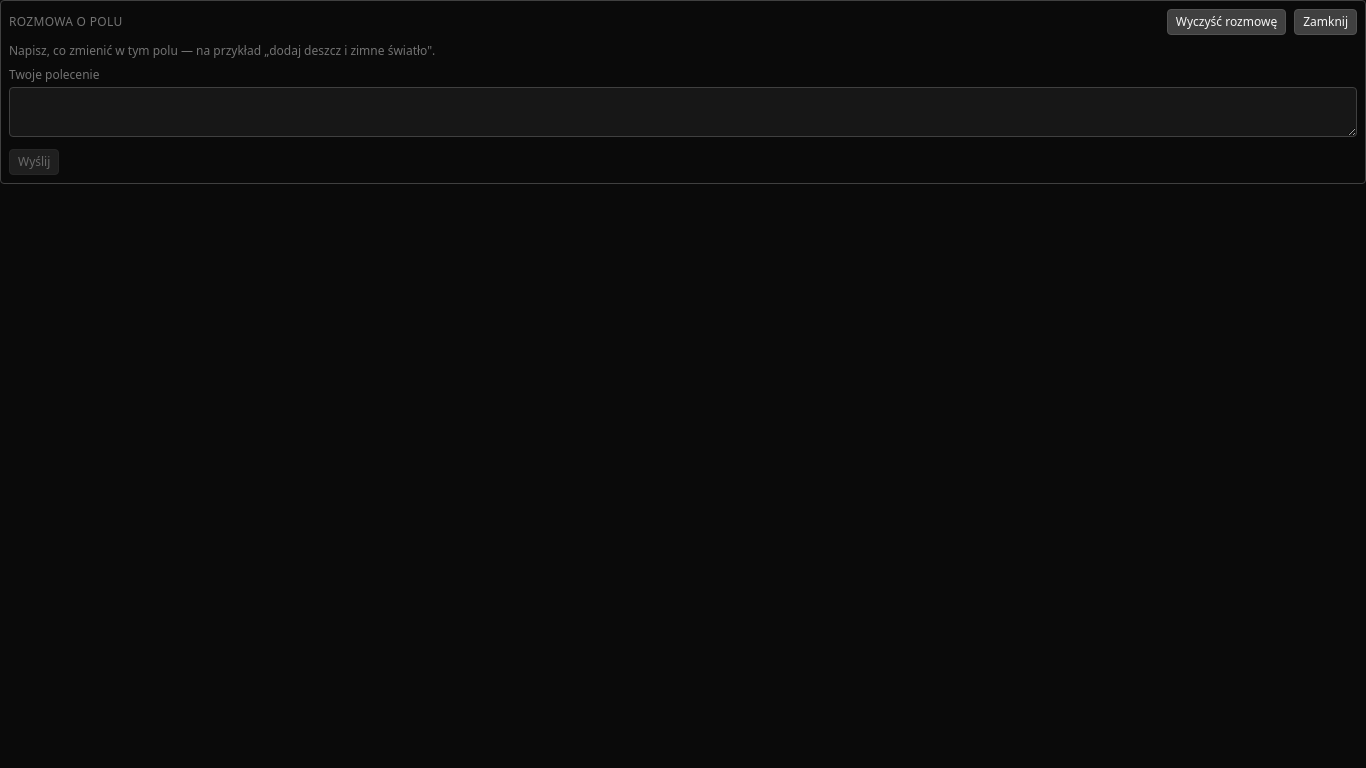
Test case: FieldChat › odpowiedź z propozycją pokazuje przegląd operacji
The width and height of the screenshot is (1366, 768).
Type "dodaj deszcz" into the text box labelled "Twoje polecenie" at point(683, 112), box [9,87,1357,137]
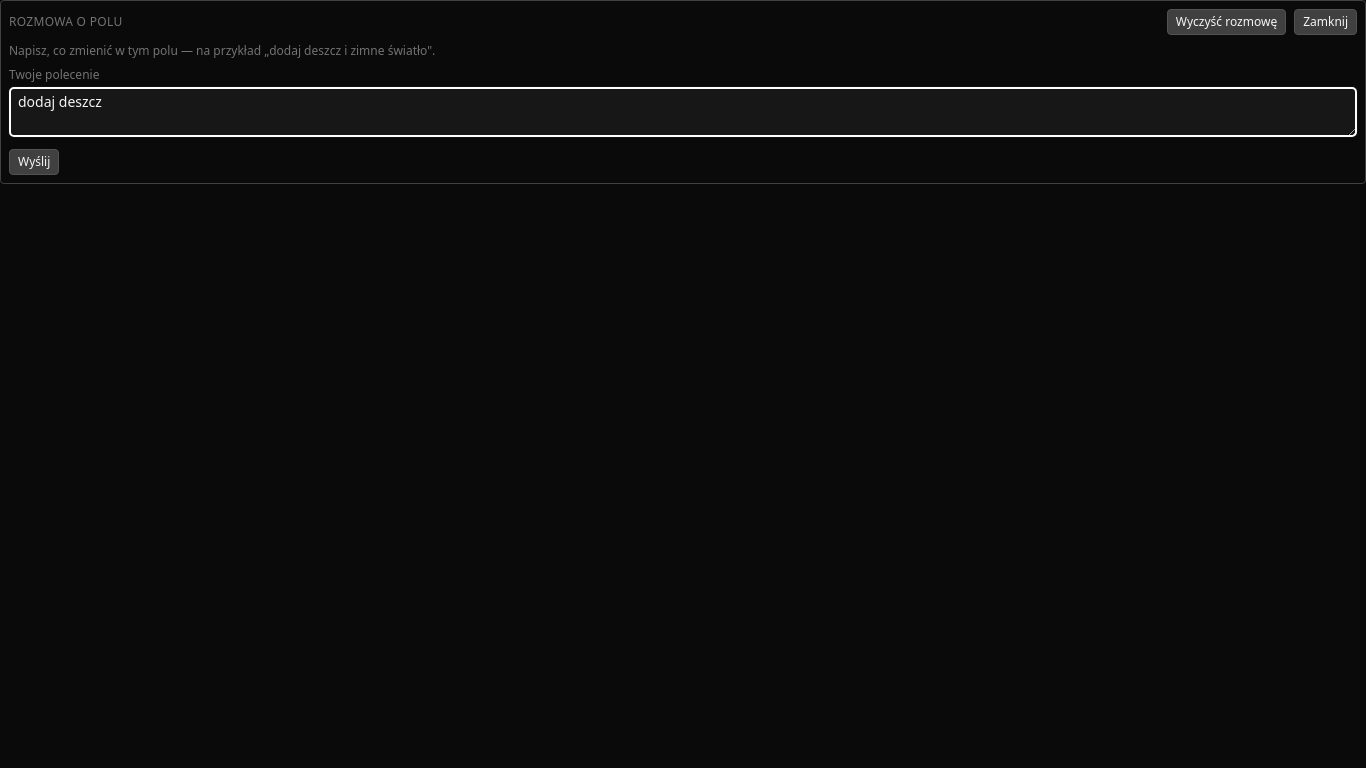
Click the button "Wyślij" at point(34, 162), box [9,149,59,175]
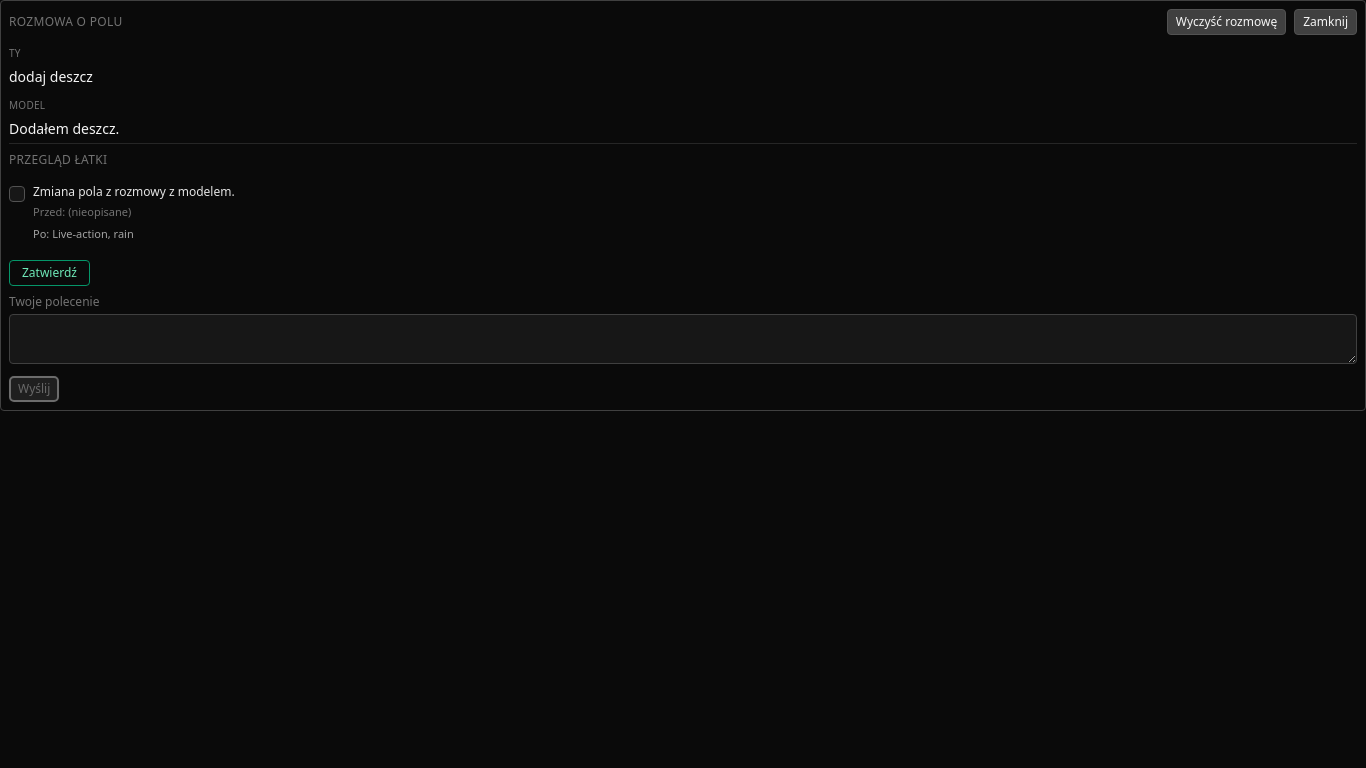
Now the text "Dodałem deszcz." is shown, box [9,119,119,138]
Now the button "Zatwierdź" is shown, box [9,260,90,286]
